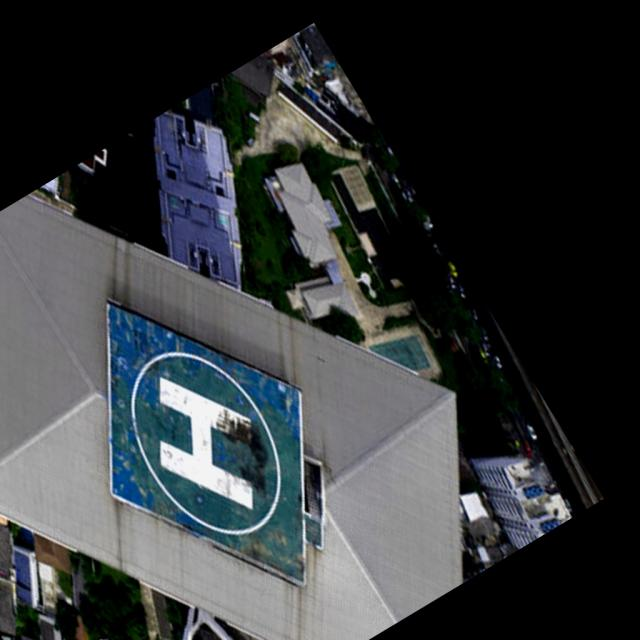helipad: (126, 349, 282, 537)
